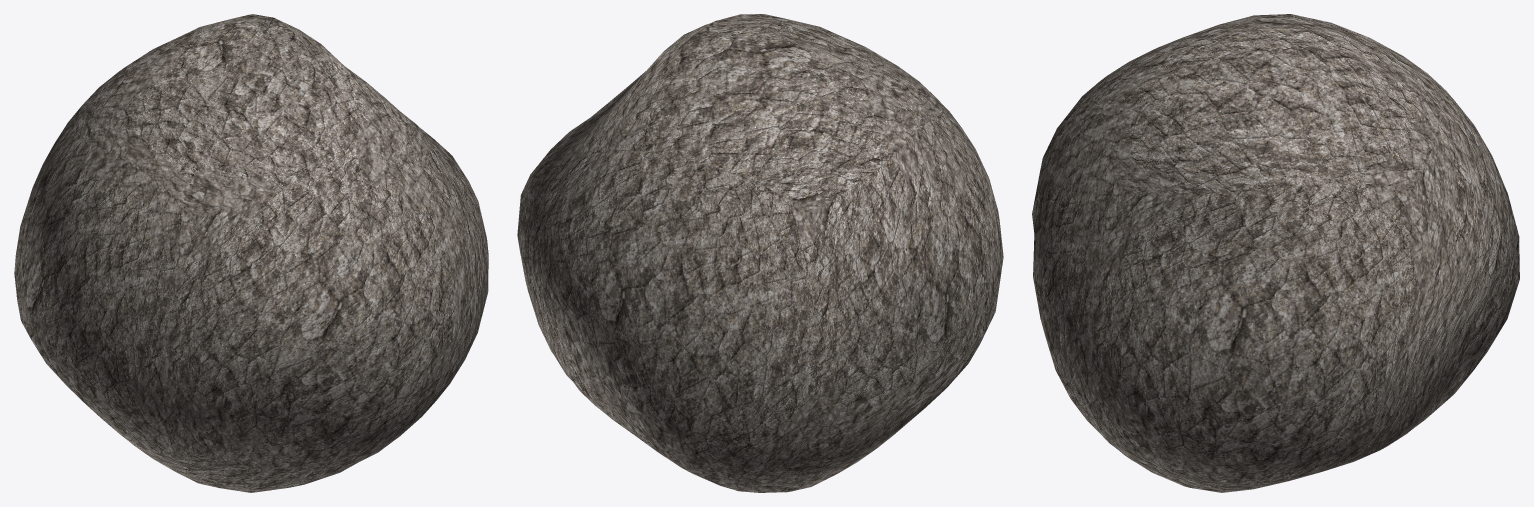
Rendered from Rock.FBX.
3 views of the same model, side by side, from view 1: azimuth 30°, elevation 25°; view 2: azimuth 150°, elevation 25°; view 3: azimuth 270°, elevation 25° (orthographic). The views are drawn at different scales.
Parts seen in each view (by area): view 1: Box001; view 2: Box001; view 3: Box001.
Boxes of the visible parts, bbox=[...] form: Box001: bbox=[14, 14, 488, 492]; Box001: bbox=[517, 14, 1003, 492]; Box001: bbox=[1032, 14, 1519, 492].
Bounding box in the file's own units: 51.23 × 50.49 × 49.78.
1 material, 1 textured.
